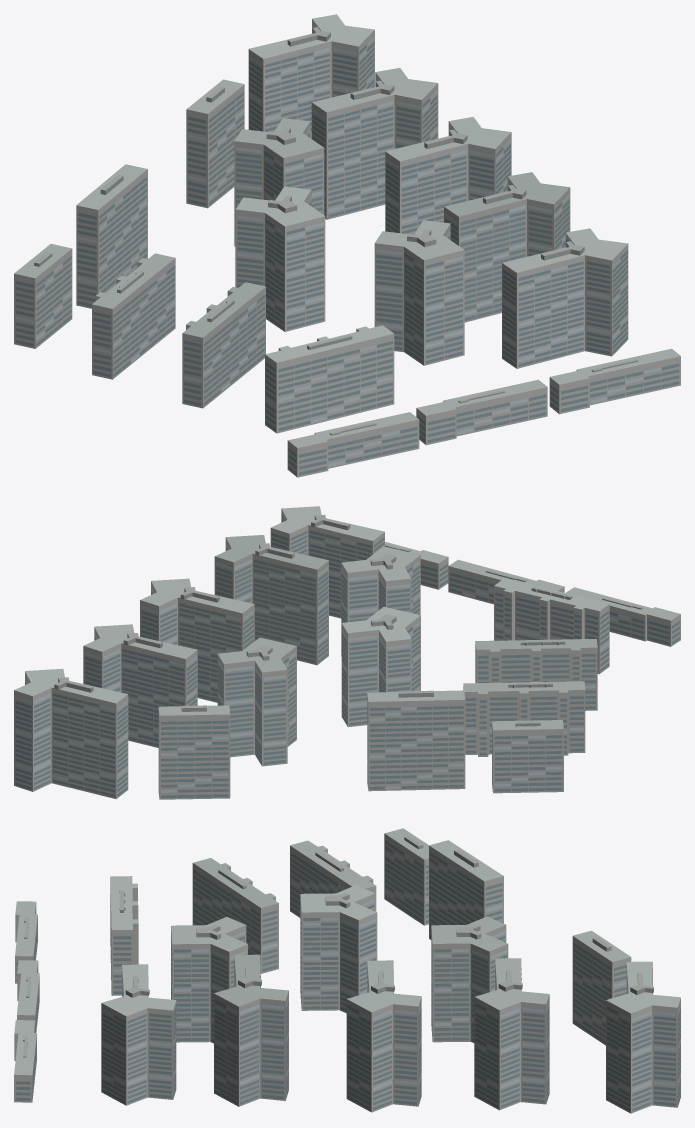
File: apt-a13408003.glb
The picture shows the model from 3 angles, top to bottom: view 1: azimuth 30°, elevation 25°; view 2: azimuth 150°, elevation 25°; view 3: azimuth 270°, elevation 25°; orthographic projection. The views are drawn at different scales.
Parts seen in each view (by area): view 1: apt-a13408003; view 2: apt-a13408003; view 3: apt-a13408003.
Boxes of the visible parts, x1,y1,x2,y2 form: apt-a13408003: (14, 14, 680, 477); apt-a13408003: (14, 506, 680, 799); apt-a13408003: (14, 828, 680, 1113).
Size of the model in its own units: 262 by 58 by 336.
